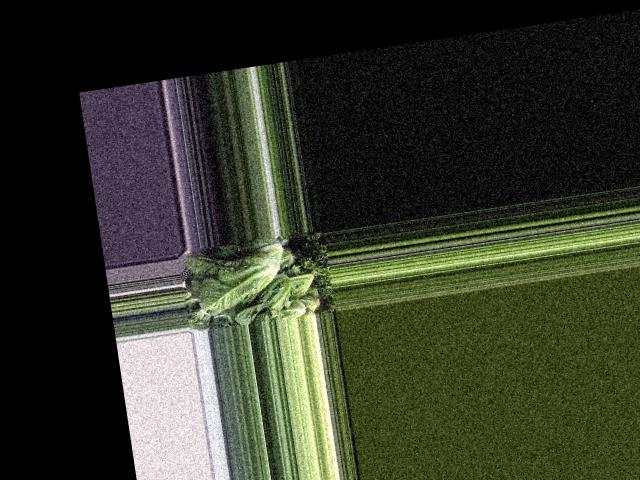lettuce: (227, 273, 298, 323)
